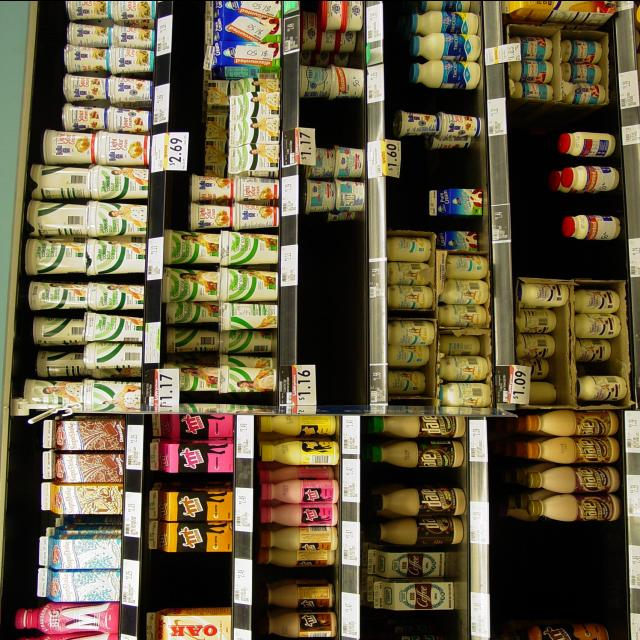empty_space: (495, 520, 625, 624), (315, 223, 365, 399), (158, 551, 230, 605), (522, 242, 620, 276), (408, 148, 474, 185), (519, 107, 610, 129), (322, 102, 368, 145), (369, 611, 463, 632), (546, 194, 617, 214), (410, 90, 476, 108)
